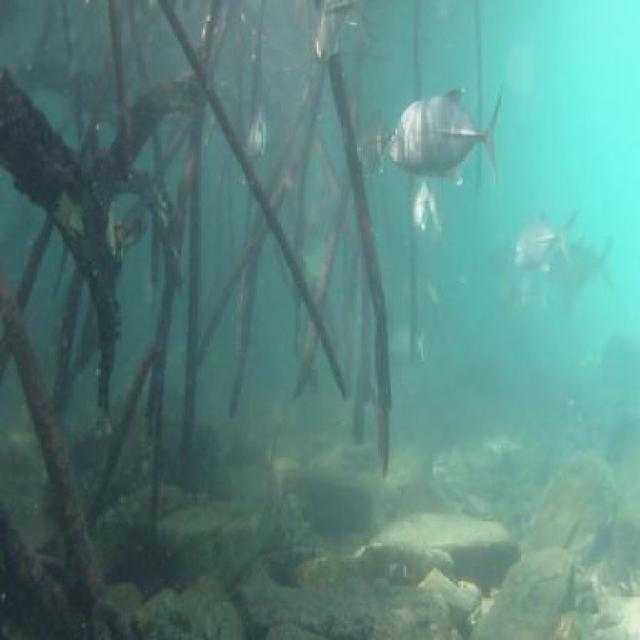Caranx_sexfasciatus_juvenile: (389, 81, 506, 187), (546, 224, 617, 304), (512, 203, 577, 280), (308, 5, 362, 76), (243, 90, 277, 175), (408, 174, 443, 243), (382, 324, 430, 368), (504, 278, 542, 322)
